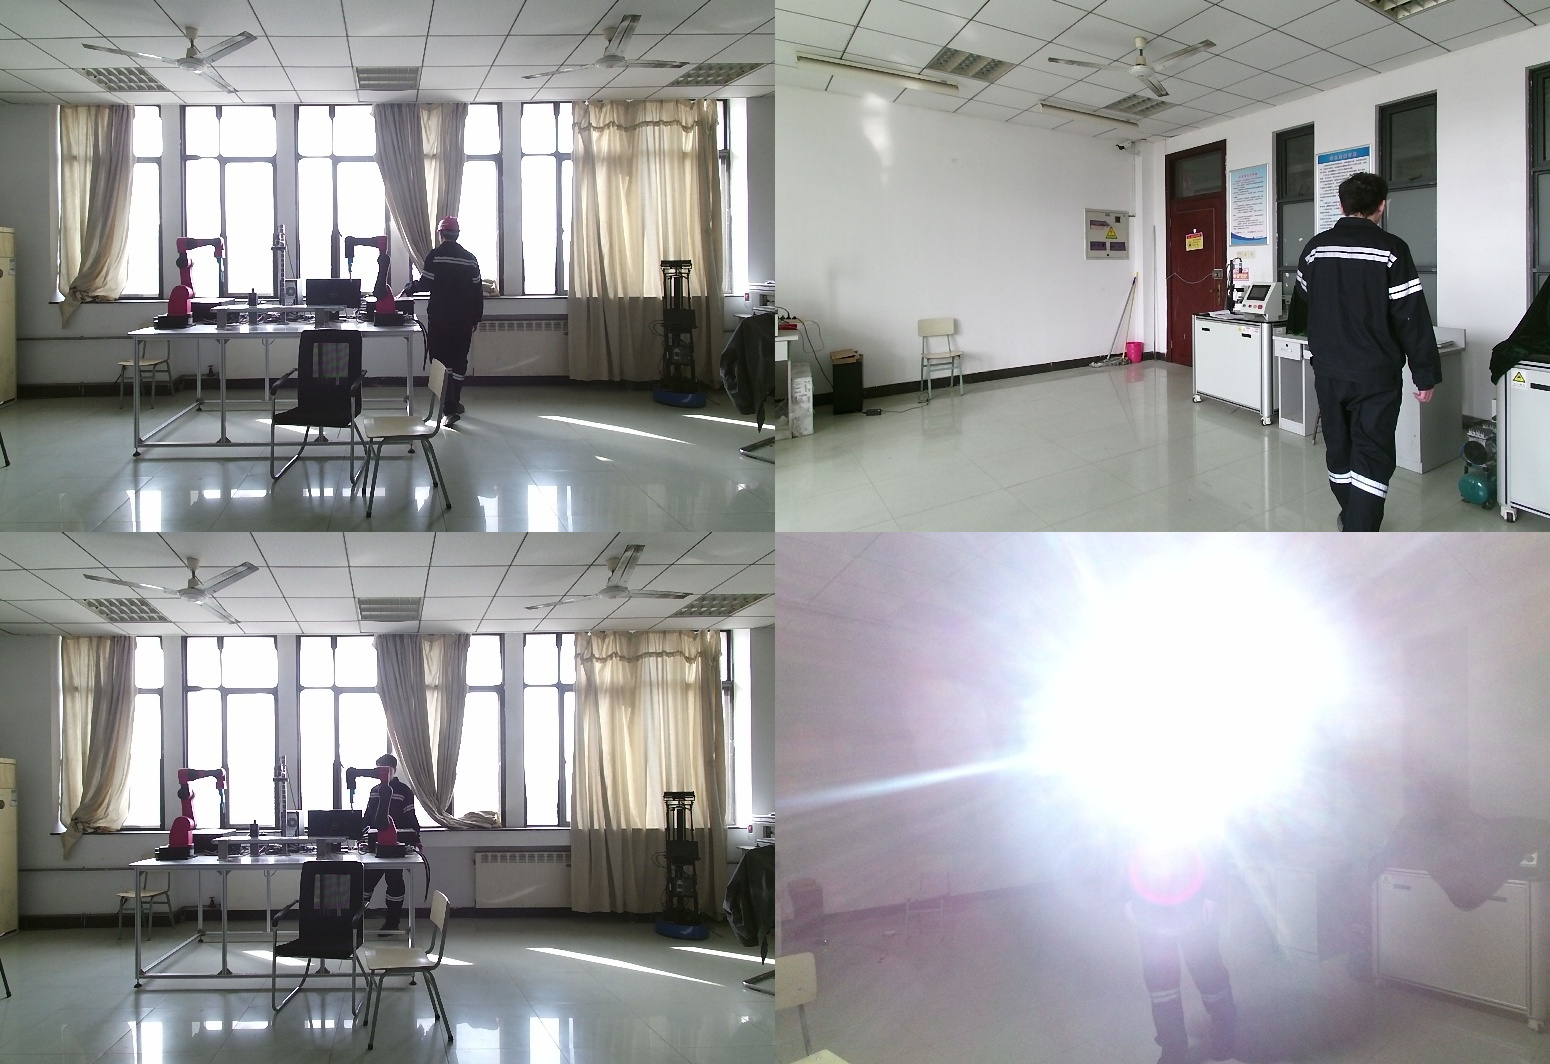person: (1296, 173, 1462, 532), (1125, 708, 1250, 1064), (400, 216, 488, 426), (362, 758, 422, 939)
